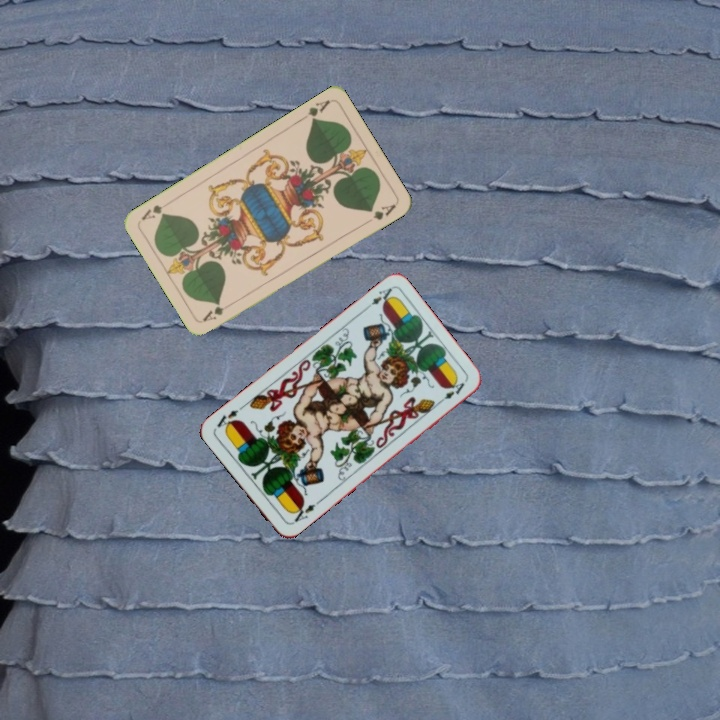EA: (360, 284, 396, 314), (287, 500, 318, 527)
GA: (296, 96, 333, 125), (199, 298, 236, 324)
